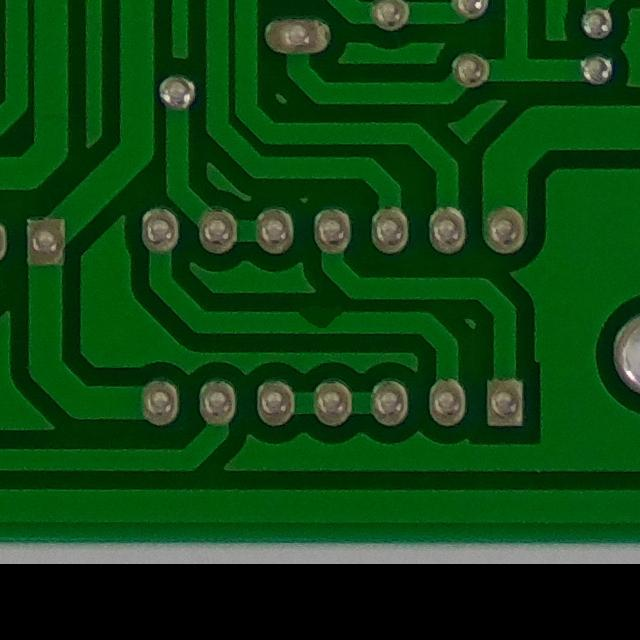mouse_bite: (284, 298, 356, 342)
